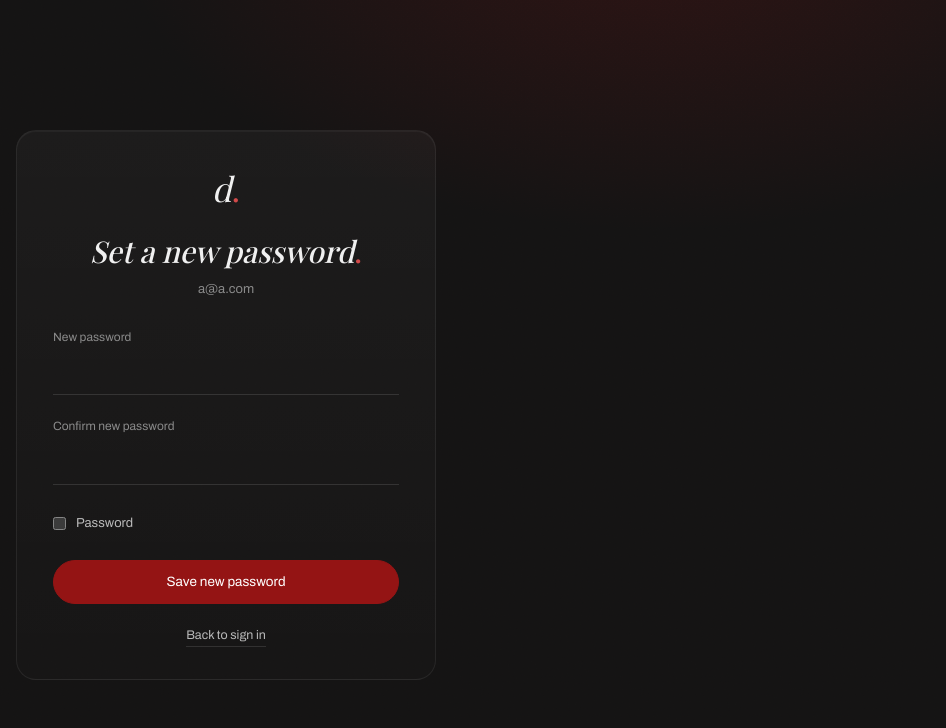
Test: ResetPasswordPage › surfaces a validation error from the server (e.g. an expired token)
This screenshot has width=946, height=728.
Type "longenoughpw" into the password field labelled "New password" at (226, 374), box [53, 354, 399, 395]
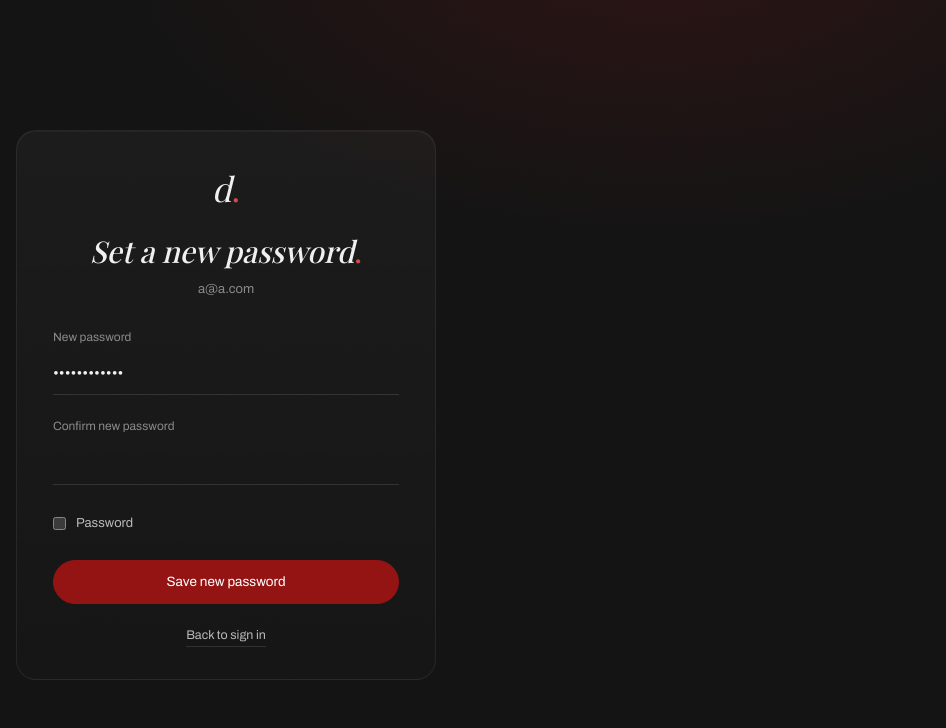
Type "longenoughpw" into the password field labelled "Confirm new password" at (226, 464), box [53, 443, 399, 485]
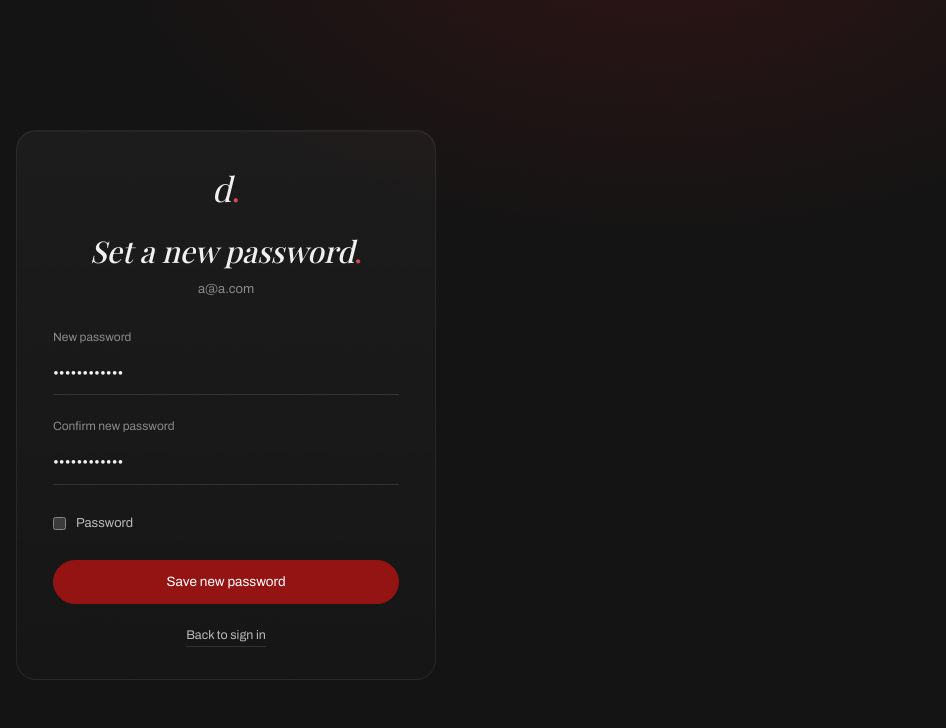
Click the button "Save new password" at (226, 582), box [53, 560, 399, 604]
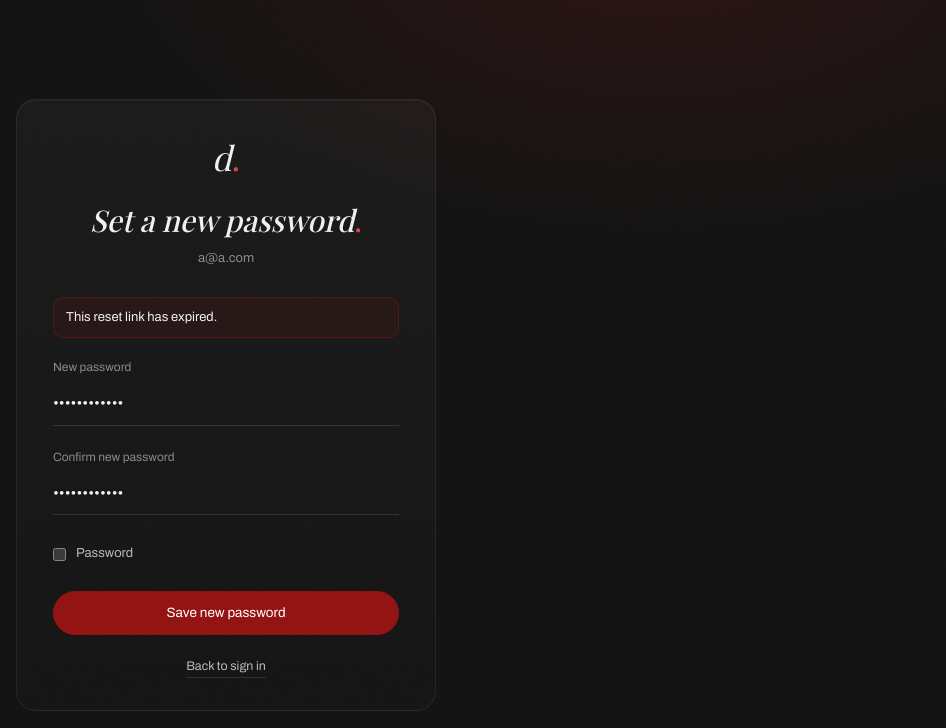
expect the text "This reset link has expired." is shown: met, box [53, 297, 399, 338]
